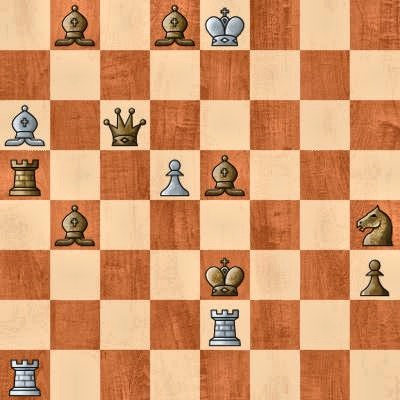black-bishop: (50, 0, 100, 50), (150, 0, 200, 50), (200, 150, 250, 200), (50, 200, 100, 250)
black-king: (200, 250, 250, 300)
black-knight: (350, 200, 400, 250)
black-pawn: (350, 250, 400, 300)
black-queen: (100, 100, 150, 150)
black-rook: (0, 150, 50, 200)
white-bishop: (0, 100, 50, 150)
white-king: (200, 0, 250, 50)
white-pawn: (150, 150, 200, 200)
white-rook: (200, 300, 250, 350), (0, 350, 50, 400)
